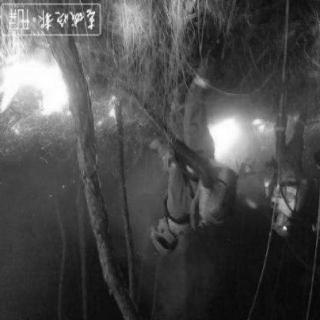Fire: (3, 45, 119, 139), (209, 110, 275, 166)
